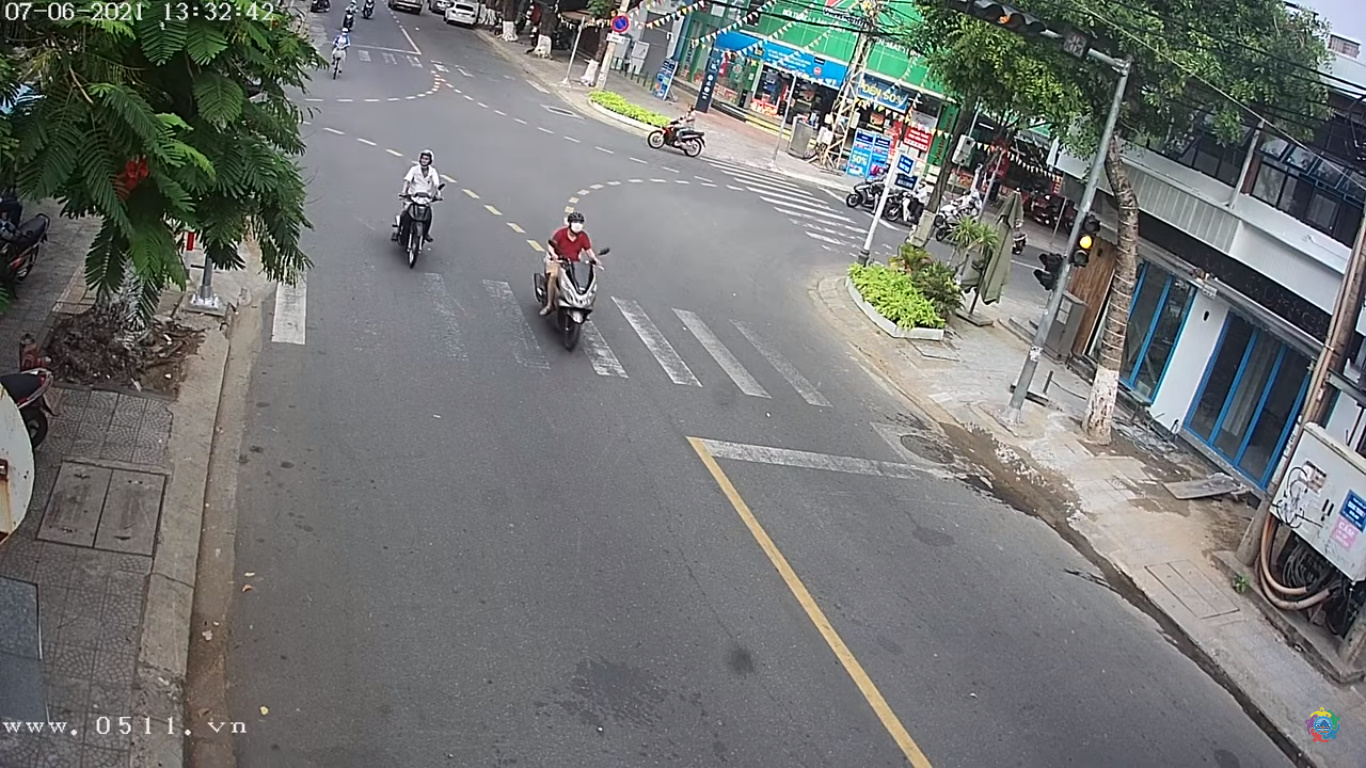motorbike: (540, 235, 604, 345), (389, 164, 444, 260)
